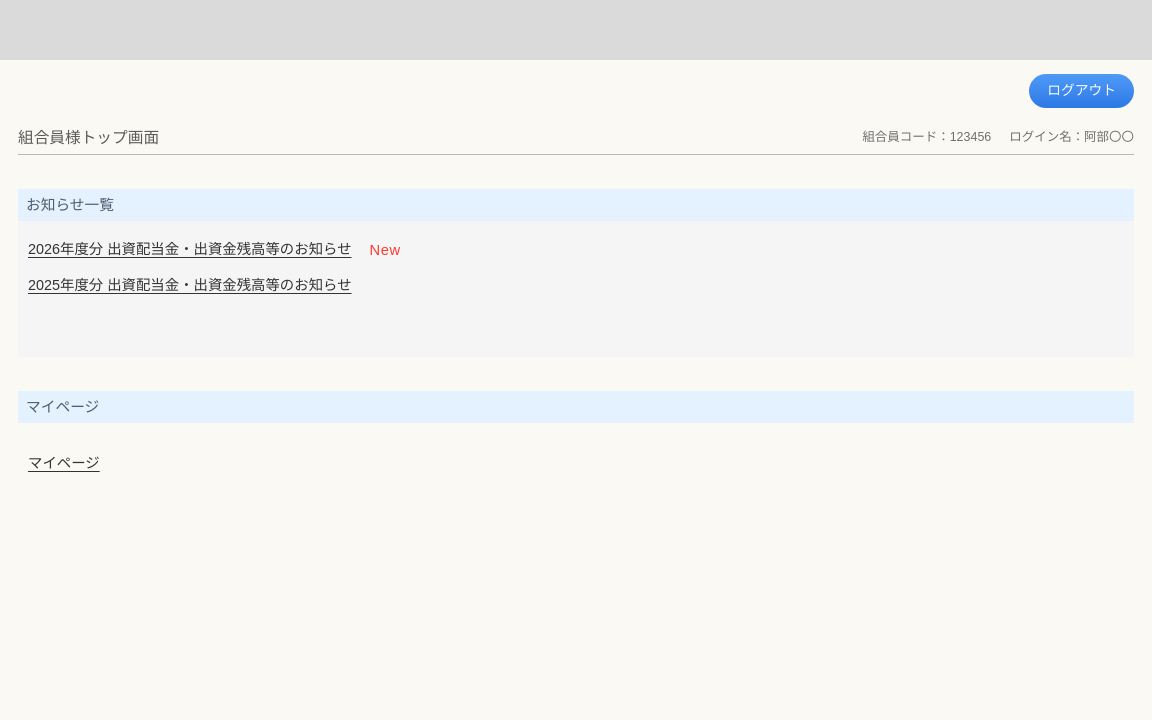
Test: MyPage › navigates from the top page to the my page
What coordinates should you click on to do the following:
click the button "マイページ"
I would click on:
 (64, 464)
Its box is [28,453,100,474].
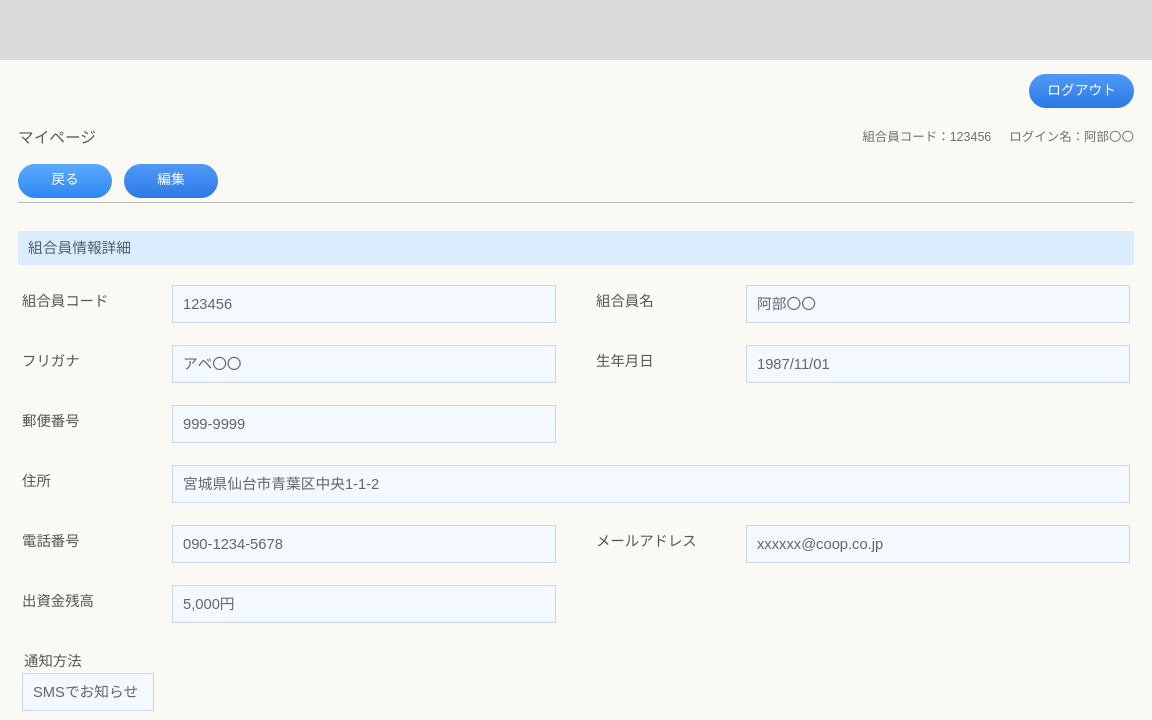
expect the heading "マイページ" is shown: met, box [18,129,96,146]
expect the text "組合員情報詳細" is shown: met, box [18,230,1134,265]
